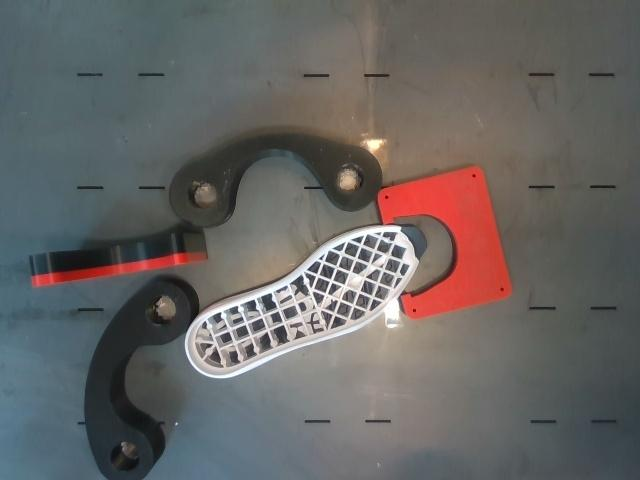shoes: (187, 227, 426, 377)
